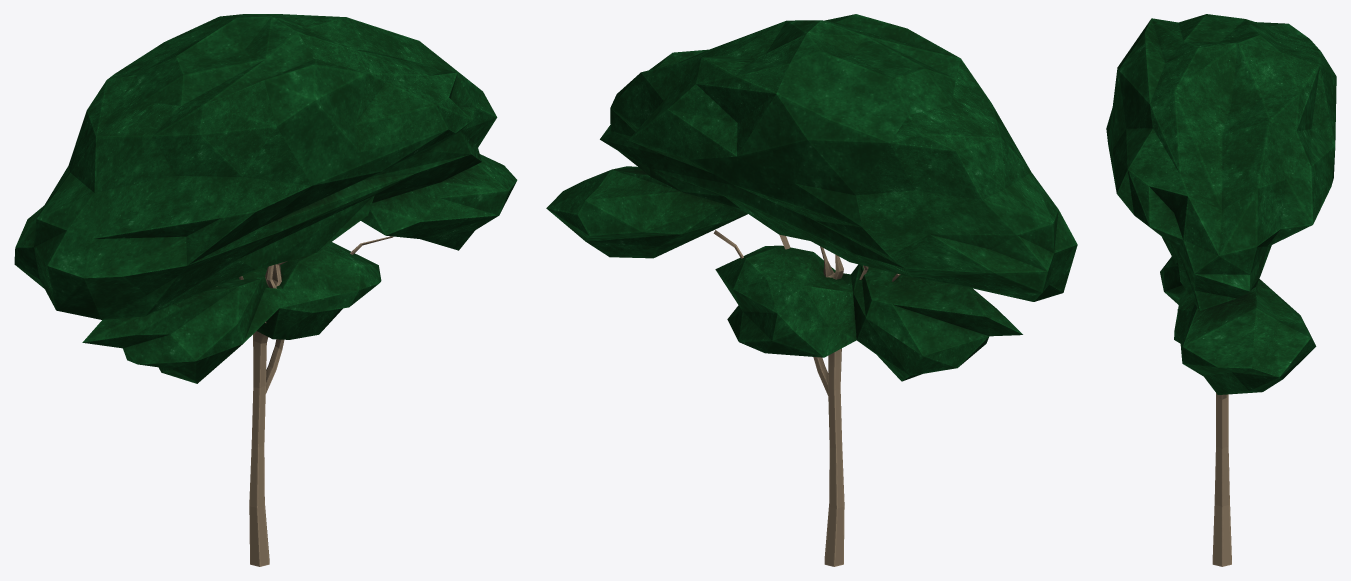
Rendered from BalsaTree.obj.
3 renders of one model, left to right at view 1: azimuth 30°, elevation 25°; view 2: azimuth 150°, elevation 25°; view 3: azimuth 270°, elevation 25°, orthographic.
Visible parts, largest first — view 1: BalsaTree_mesh; view 2: BalsaTree_mesh; view 3: BalsaTree_mesh.
Part boxes in pixels (x1,y1,x2,y2): BalsaTree_mesh: (14, 14, 517, 566); BalsaTree_mesh: (546, 14, 1077, 566); BalsaTree_mesh: (1106, 14, 1336, 566).
Size of the model in its own units: 10.62 by 11.03 by 4.36.
Materials: 1 (1 with a texture image).
